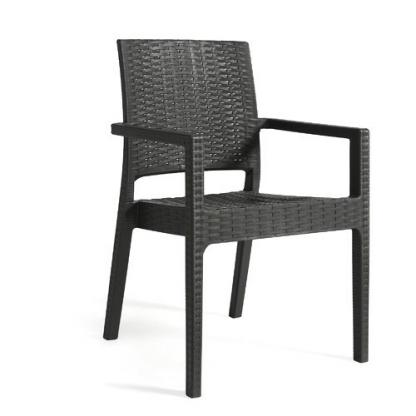chair: (98, 29, 384, 404)
